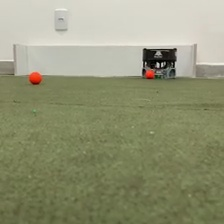ball: (28, 69, 43, 85), (146, 69, 156, 80)
goal: (12, 42, 199, 80)
robot: (141, 45, 178, 79)
